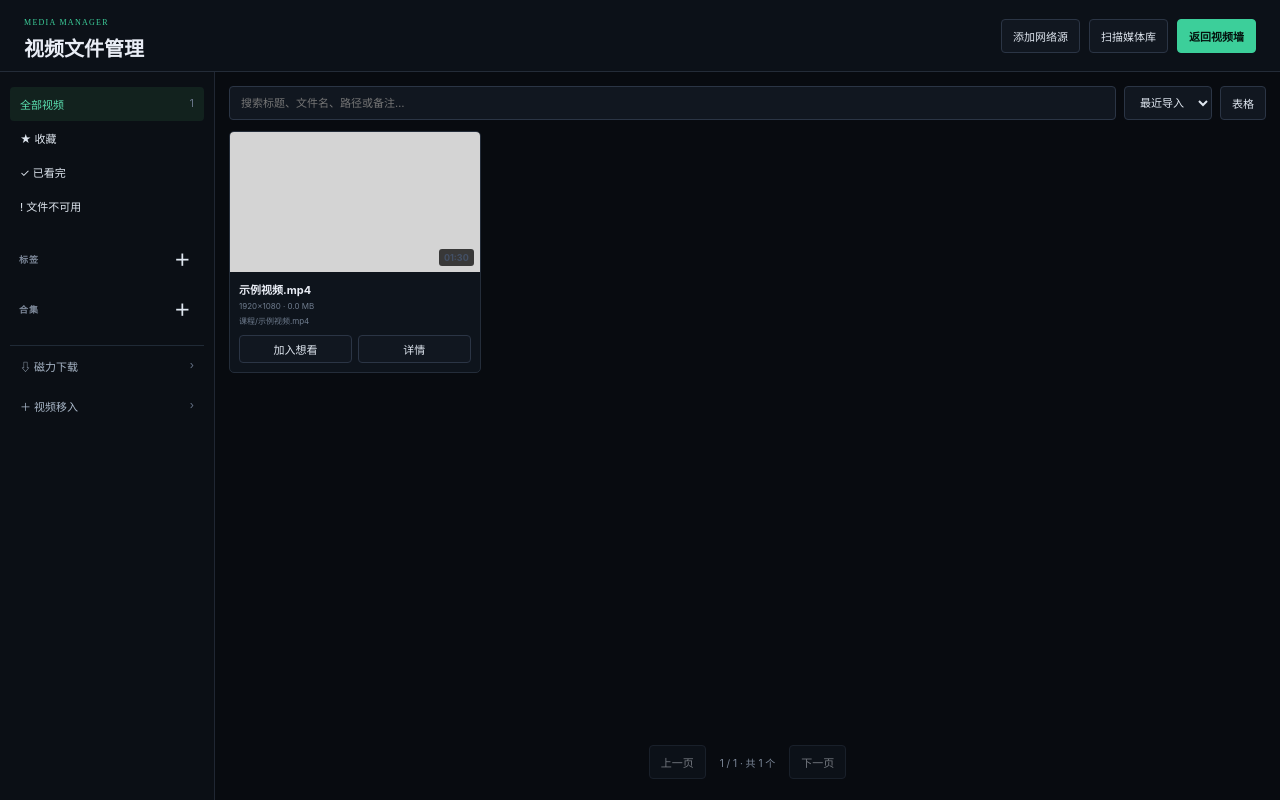
LibraryManager › shows media import below downloads inside the content area
Click the button with class "import-nav".
click(107, 406)  # box [10,386,204,426]
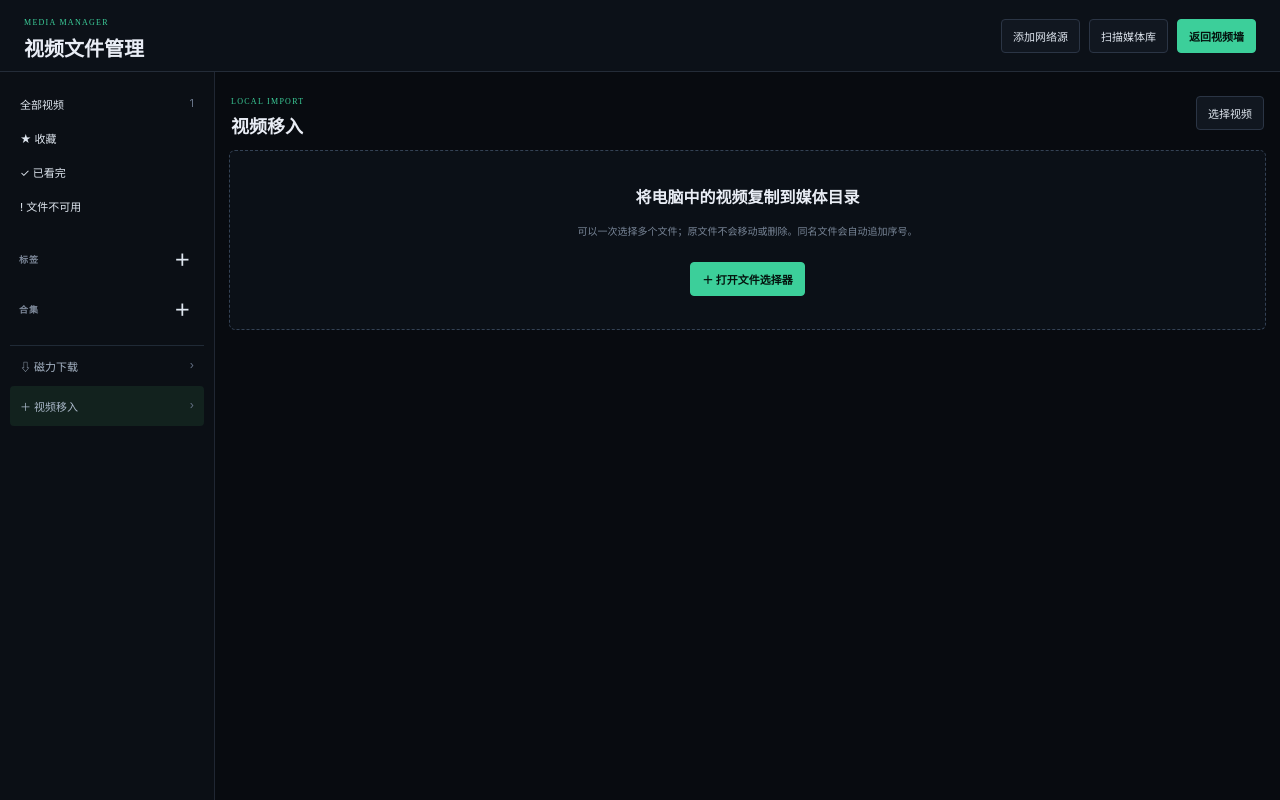
Expected: the element with class "manager-sidebar" is shown, [0,72,215,799]
Now the element with class "import-panel" is shown, box [229,96,1266,330]
Now the text "打开文件选择器" is shown, box [690,262,805,296]
